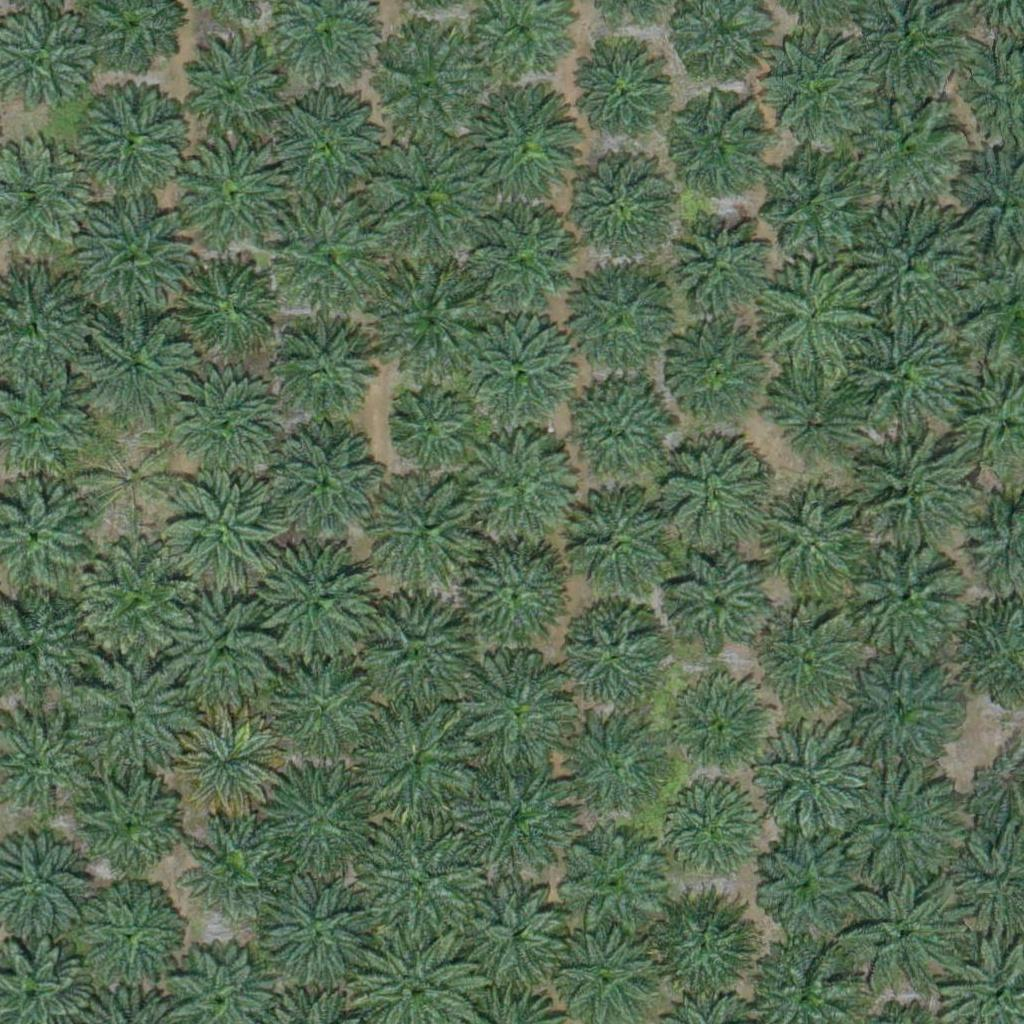Kelapa_Sawit: (847, 207, 972, 333), (455, 204, 580, 330), (369, 261, 494, 387), (831, 767, 956, 893), (841, 863, 966, 989), (353, 702, 478, 828), (359, 821, 484, 947), (841, 428, 966, 553), (462, 87, 575, 201), (464, 539, 577, 653), (370, 473, 483, 587), (456, 654, 569, 768), (174, 136, 287, 250), (269, 426, 382, 540), (764, 33, 877, 146), (370, 31, 483, 144), (183, 36, 296, 149), (76, 82, 189, 195), (849, 93, 962, 206), (758, 493, 871, 606), (661, 322, 774, 435), (656, 444, 769, 557), (563, 152, 676, 265), (564, 265, 677, 378), (844, 648, 957, 761), (753, 724, 866, 837), (461, 879, 574, 992), (463, 760, 576, 873), (356, 598, 469, 711), (257, 543, 370, 656), (78, 544, 191, 657), (272, 196, 385, 309), (172, 709, 285, 822), (74, 662, 187, 775), (70, 767, 183, 880), (647, 885, 759, 999), (553, 821, 665, 935), (78, 197, 190, 311), (173, 374, 285, 488), (274, 87, 386, 200), (851, 318, 963, 431), (854, 544, 966, 657), (761, 152, 873, 265), (562, 383, 674, 496), (559, 491, 671, 604), (463, 319, 575, 432), (462, 430, 574, 543), (371, 141, 483, 254), (269, 653, 381, 766), (259, 762, 371, 875), (259, 873, 371, 986), (80, 309, 192, 422), (165, 593, 277, 706), (166, 471, 278, 584), (81, 431, 181, 532), (764, 269, 864, 370), (770, 363, 870, 464), (758, 610, 858, 711), (664, 99, 764, 200), (675, 216, 775, 317), (666, 550, 766, 651), (80, 887, 180, 988), (577, 48, 677, 148), (561, 604, 661, 704), (761, 832, 861, 932), (666, 676, 766, 776), (662, 783, 762, 883), (567, 715, 667, 815), (176, 258, 276, 358), (275, 316, 375, 416), (190, 824, 277, 913), (389, 392, 464, 468)
